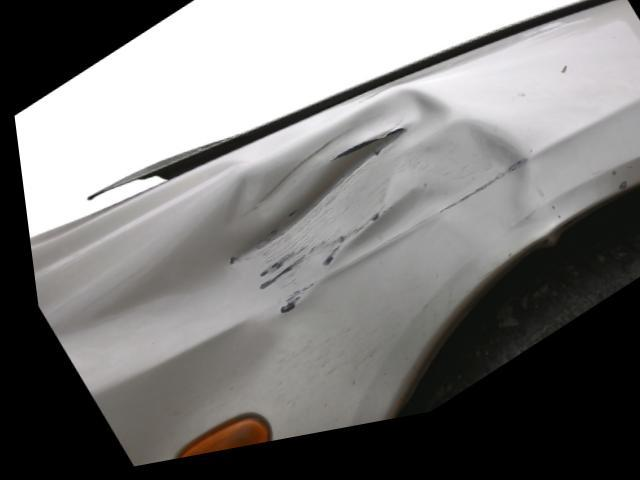dent: (77, 104, 539, 342)
